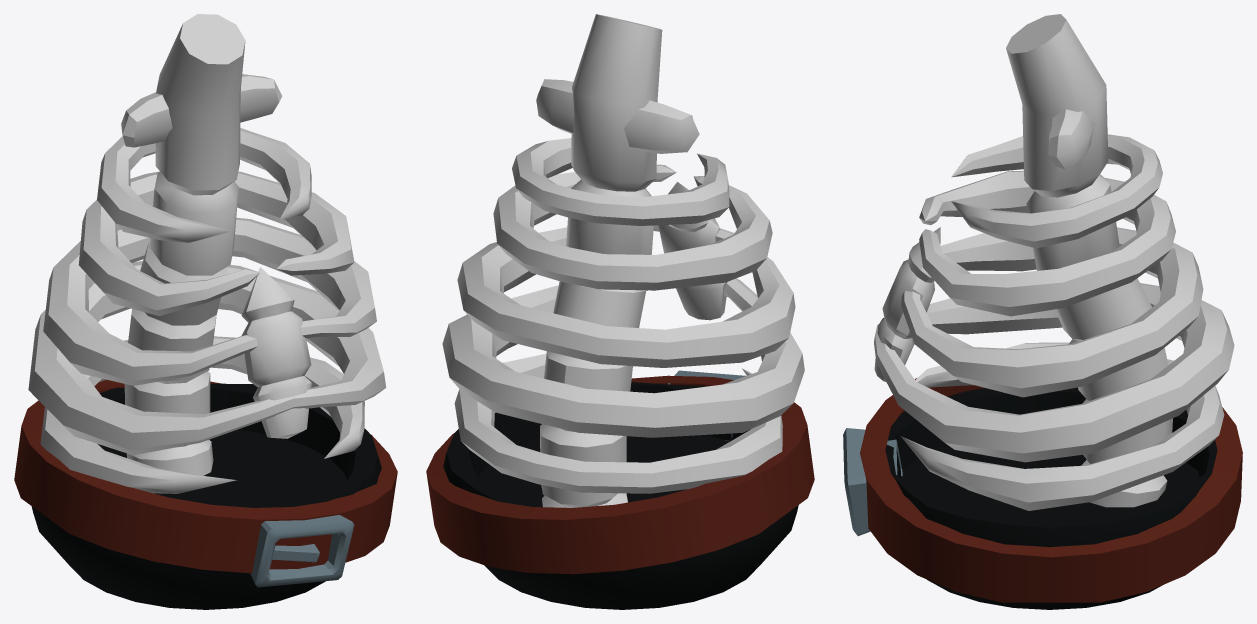
Rendered from character_skeleton_minion_body.obj.
The picture shows the model from 3 angles, left to right: view 1: azimuth 30°, elevation 25°; view 2: azimuth 150°, elevation 25°; view 3: azimuth 270°, elevation 25°; orthographic projection.
Visible parts, largest first — view 1: character_skeleton_minion_body_Cube.7654; view 2: character_skeleton_minion_body_Cube.7654; view 3: character_skeleton_minion_body_Cube.7654.
Part boxes in pixels (left/top/right/bottom): character_skeleton_minion_body_Cube.7654: left=14, top=14, right=397, bottom=609; character_skeleton_minion_body_Cube.7654: left=426, top=14, right=814, bottom=609; character_skeleton_minion_body_Cube.7654: left=843, top=14, right=1242, bottom=609.
Bounding box in the file's own units: 0.6608 × 1.03 × 0.7007.
